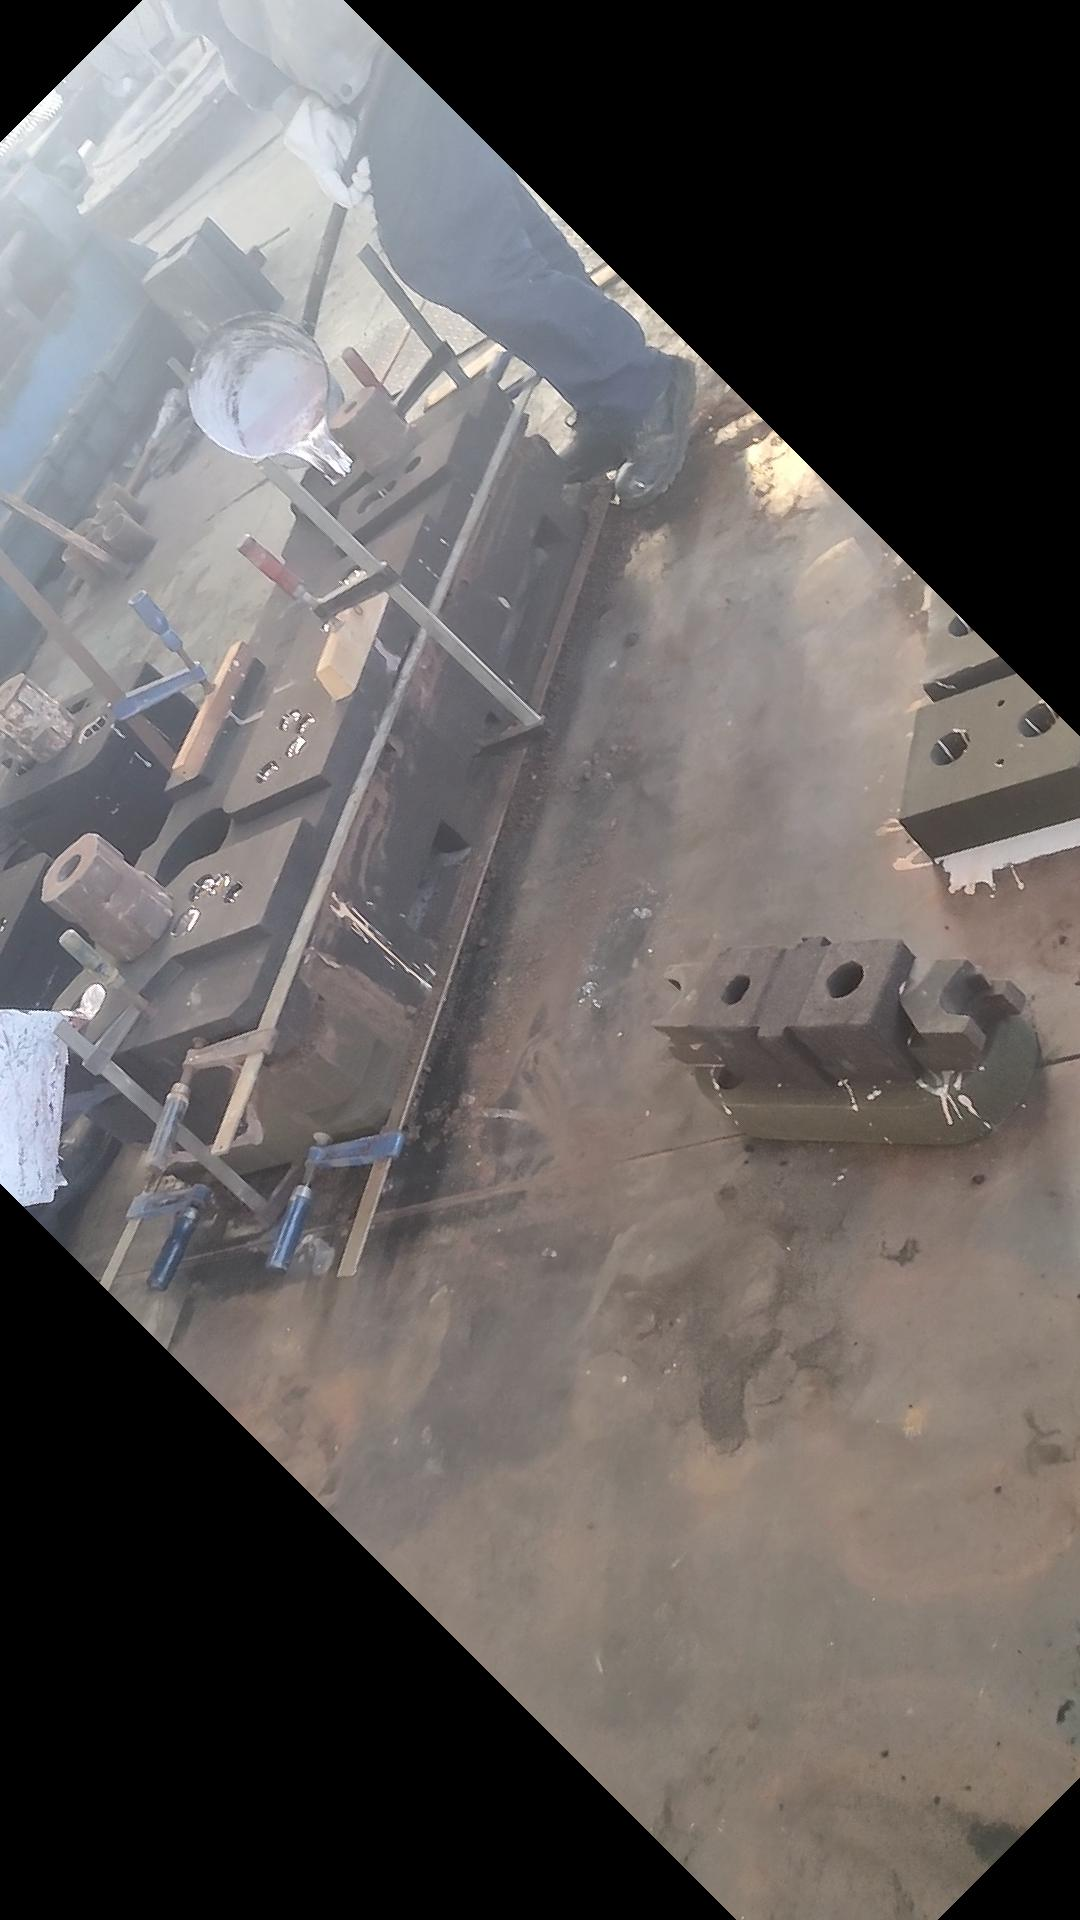pouring hole: (61, 985, 104, 1023), (1015, 700, 1058, 737), (928, 731, 971, 765), (316, 448, 355, 485), (945, 607, 978, 637), (3, 698, 28, 727), (102, 514, 124, 541), (88, 504, 117, 524), (94, 481, 116, 506), (69, 517, 94, 535), (82, 526, 103, 545), (61, 545, 83, 560)
